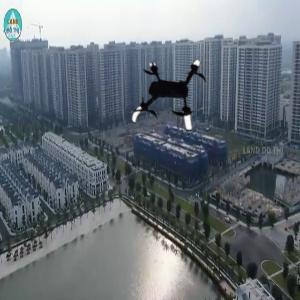drone: (125, 53, 218, 146)
